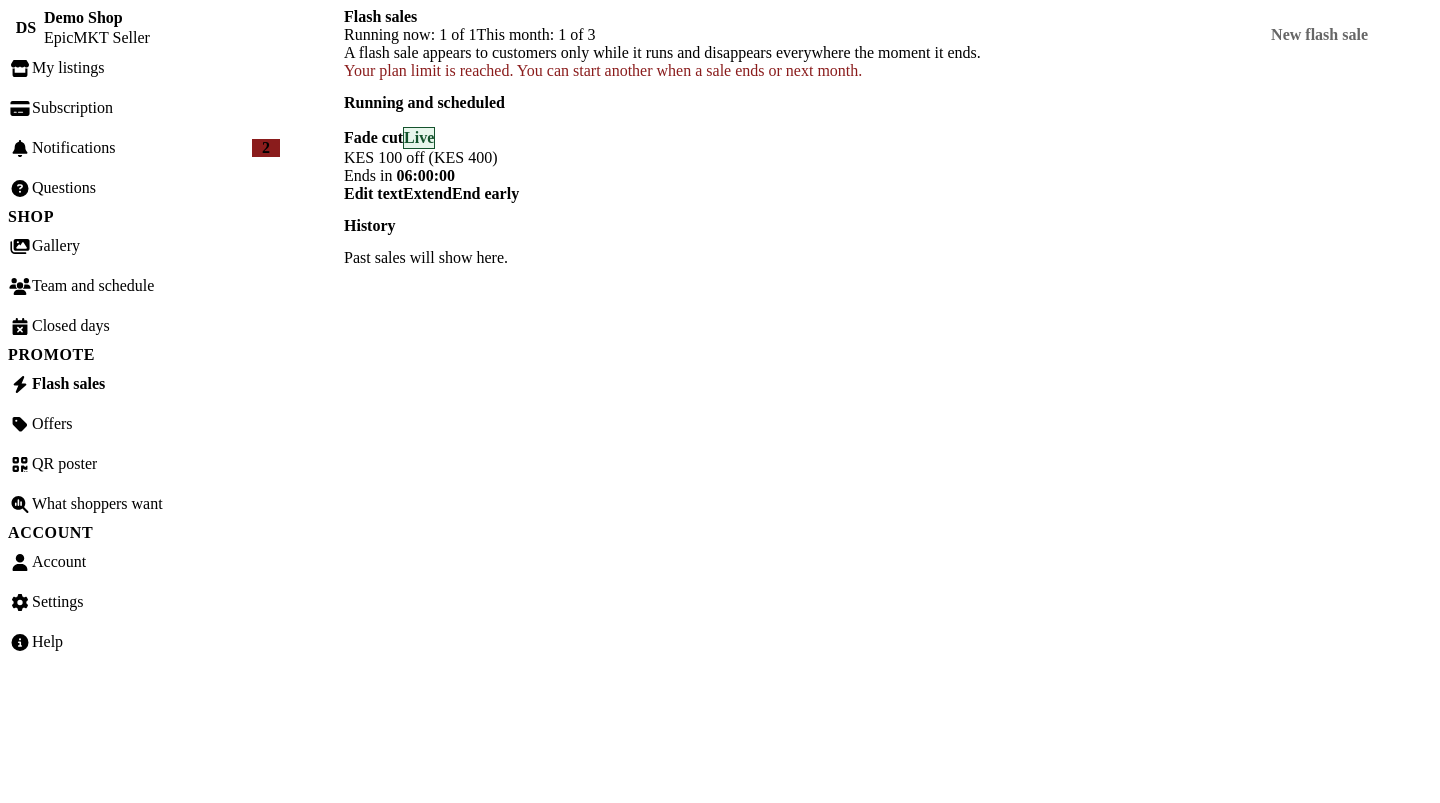
Test: seller flash sales › ends a sale early after a confirmation, and it moves to history
The width and height of the screenshot is (1440, 803).
Click the button with aria-label "End Fade cut flash sale early".
click(486, 194)  # box top-left (452, 184), bottom-right (519, 202)
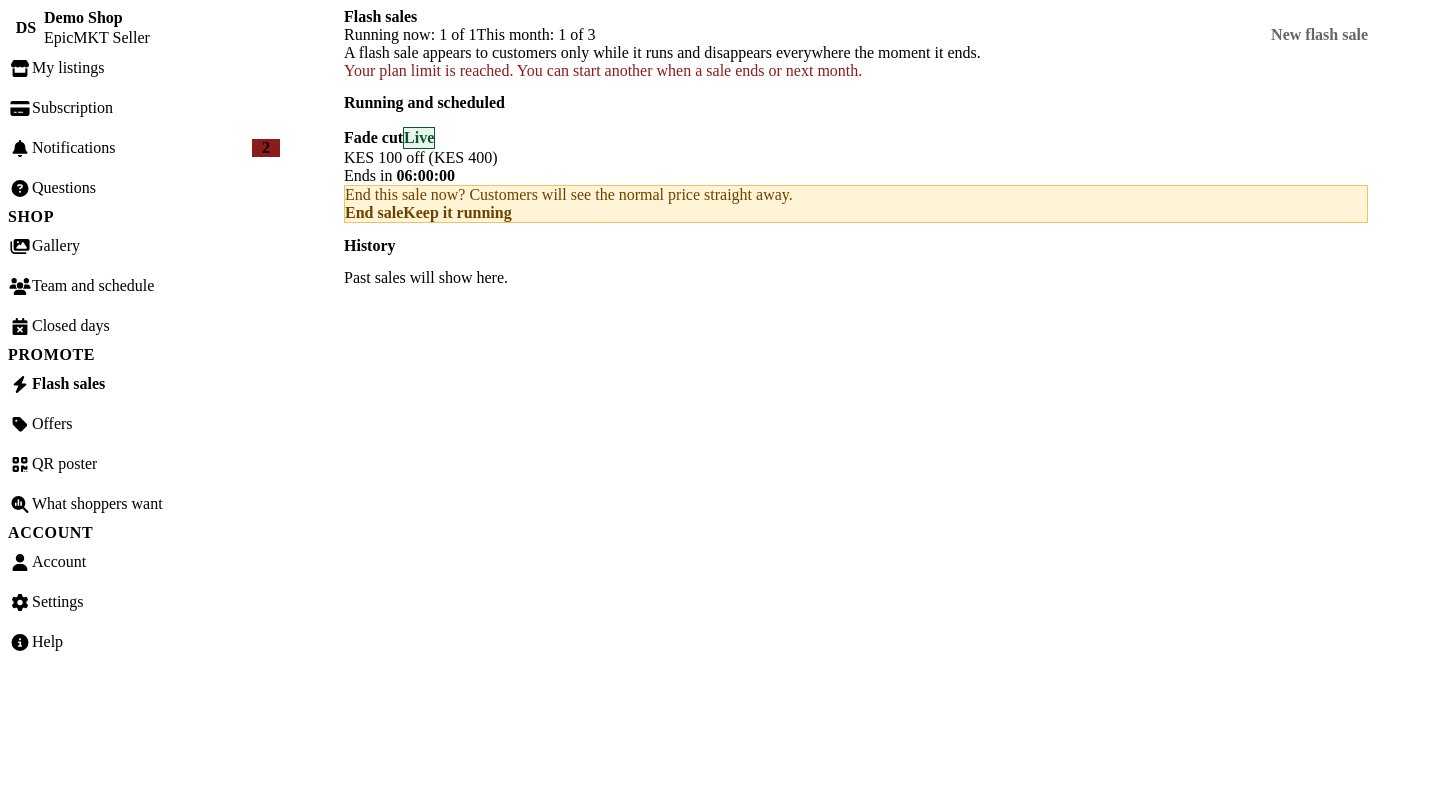
Expected: the dialog shows "Customers will see the normal price straight away", top-left (345, 186), bottom-right (793, 202)
Click the button "Keep it running".
click(458, 212)  # box top-left (403, 204), bottom-right (512, 222)
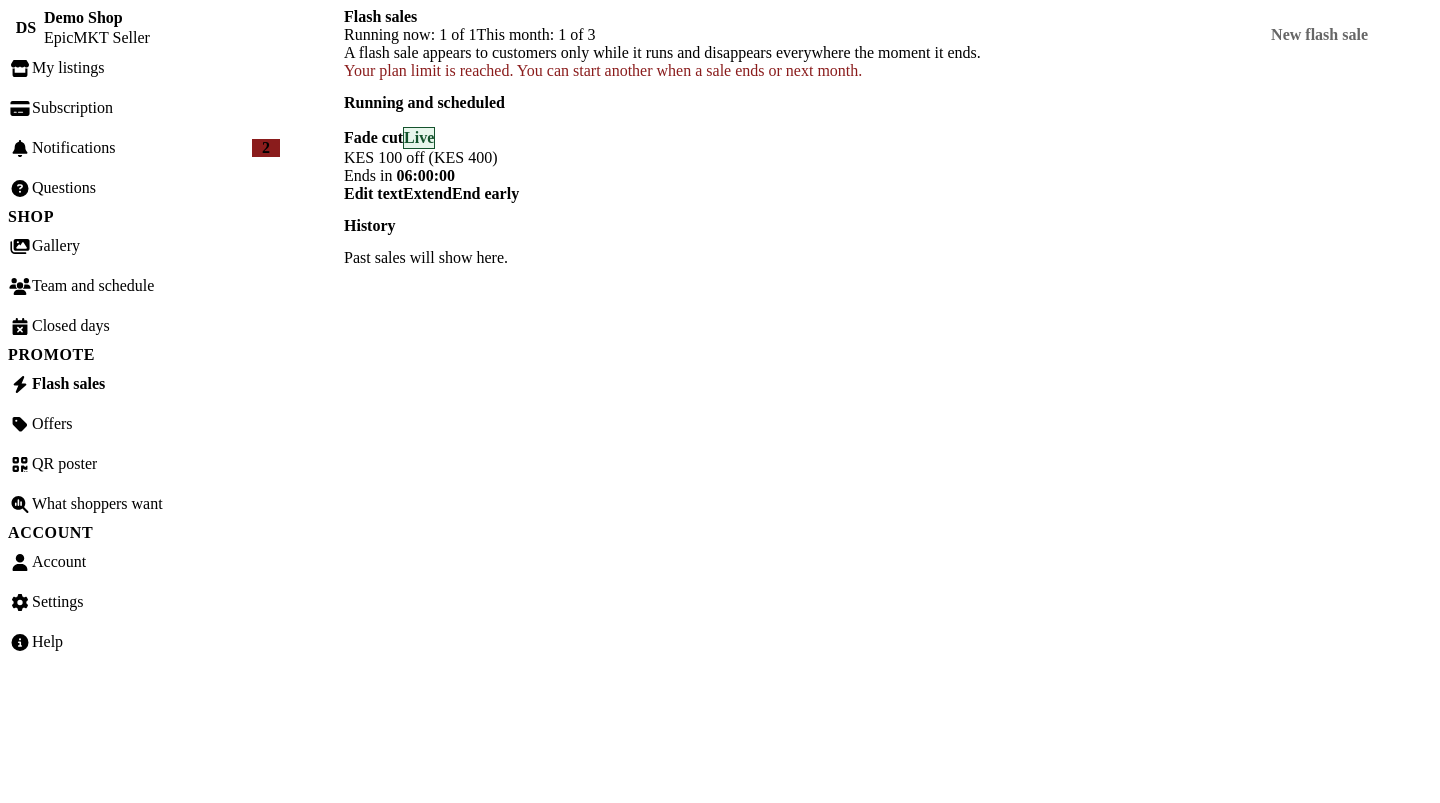
Expected: the dialog is gone
Click the button with aria-label "End Fade cut flash sale early".
click(486, 194)  # box top-left (452, 184), bottom-right (519, 202)
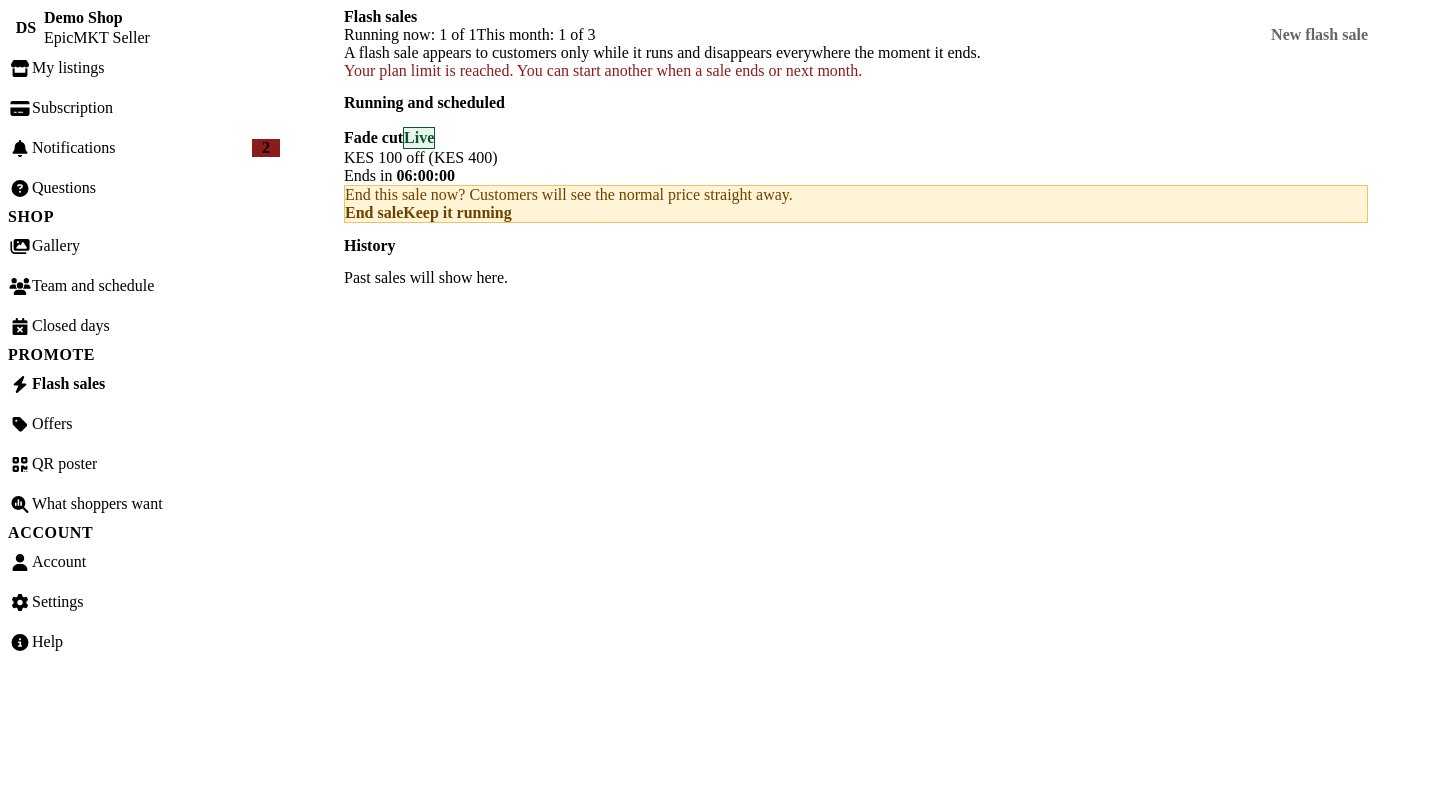
Click the button "End sale".
click(374, 212)  # box top-left (345, 204), bottom-right (403, 222)
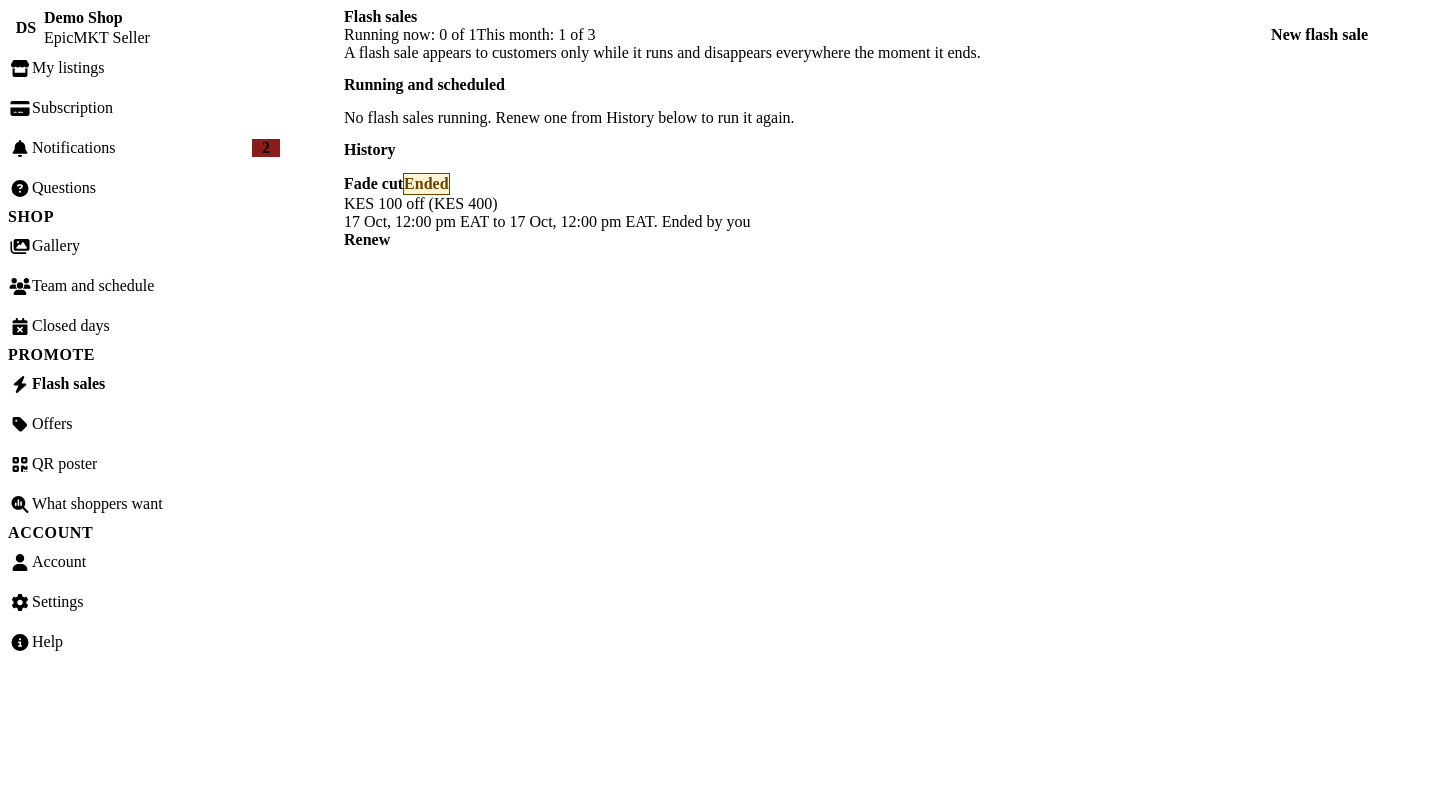
Expected: the text with test id "empty" is shown, top-left (344, 108), bottom-right (795, 126)
Expected: the text "17 Oct, 12:00 pm EAT to 17 Oct, 12:00 pm EAT. Ended by you" is shown, top-left (344, 213), bottom-right (750, 230)
